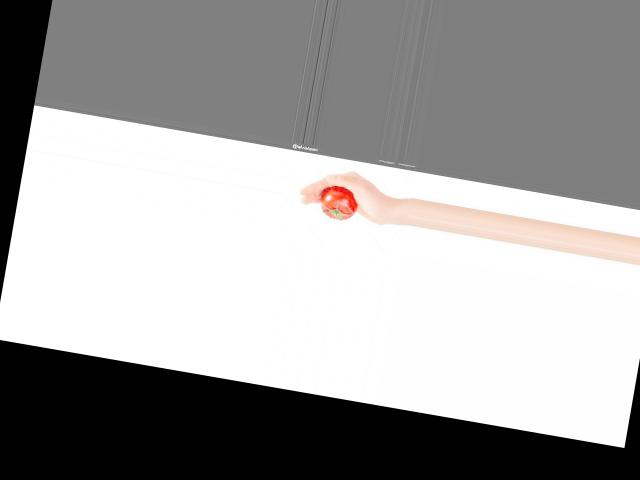tomato: (319, 184, 361, 222)
